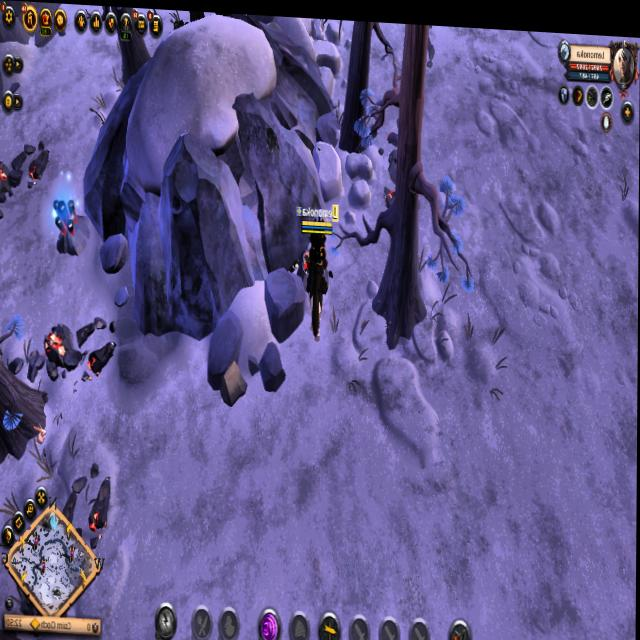ore tier 5: (52, 191, 91, 257)
rock tier 1: (214, 351, 249, 409)
